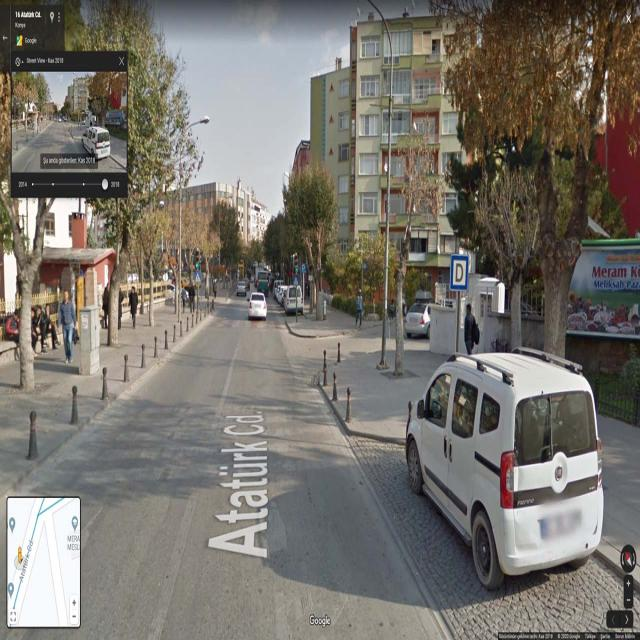durak: (450, 254, 468, 291)
